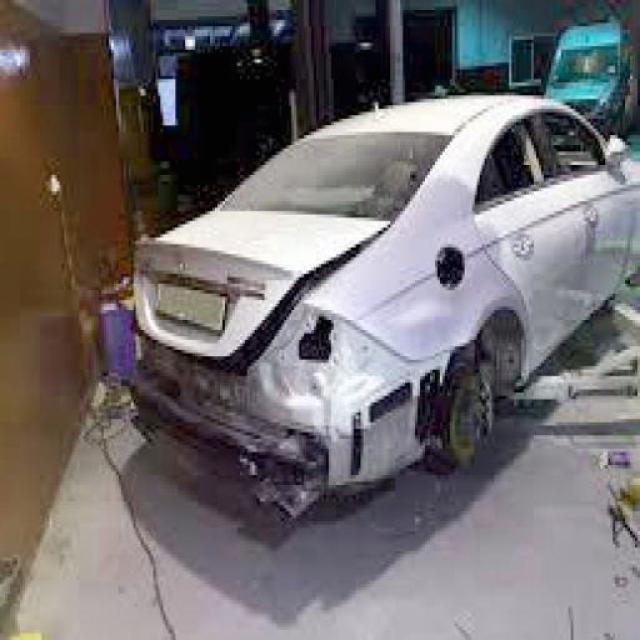car damage: (121, 298, 471, 512)
